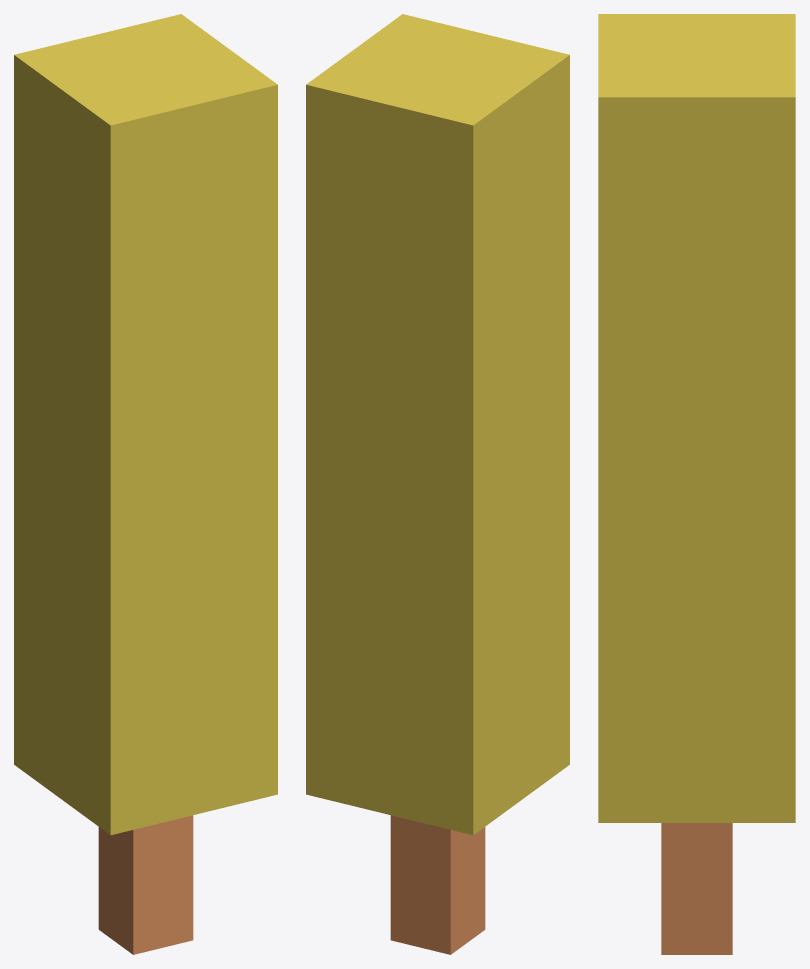
Rendered from Environment_Tree-but-yellow.fbx.
3 views of the same model, side by side, from view 1: azimuth 30°, elevation 25°; view 2: azimuth 150°, elevation 25°; view 3: azimuth 270°, elevation 25° (orthographic). The views are drawn at different scales.
Visible parts, largest first — view 1: Tree_but_yellow; view 2: Tree_but_yellow; view 3: Tree_but_yellow.
Part boxes in pixels (box(x1,y1,x2,y2)): Tree_but_yellow: box(14, 14, 277, 954); Tree_but_yellow: box(306, 14, 569, 954); Tree_but_yellow: box(598, 14, 795, 954).
Size of the model in its own units: 1 by 4.94 by 1.
